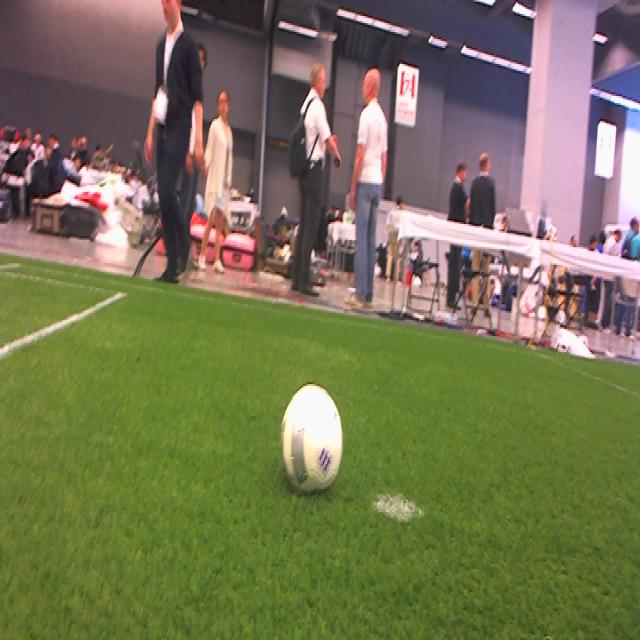ball: (279, 382, 345, 494)
